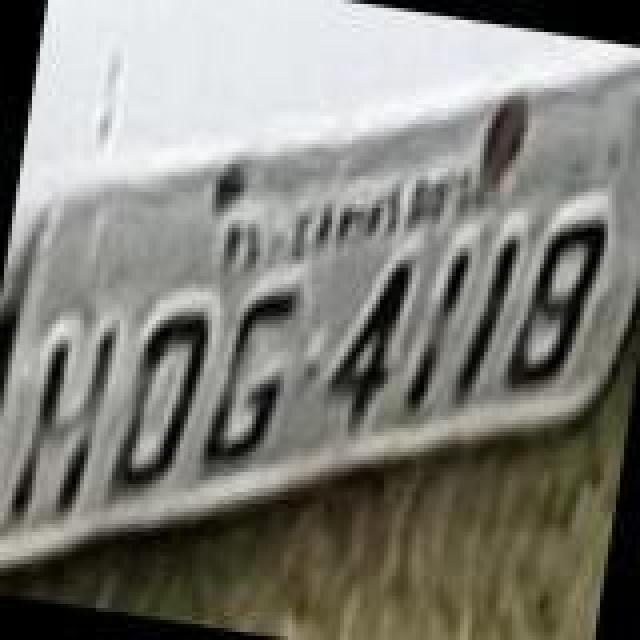1: (402, 240, 478, 424), (450, 224, 526, 408)
4: (318, 246, 418, 450)
8: (504, 202, 616, 406)
G: (196, 274, 300, 478)
H: (4, 308, 124, 540)
O: (104, 294, 216, 506)
